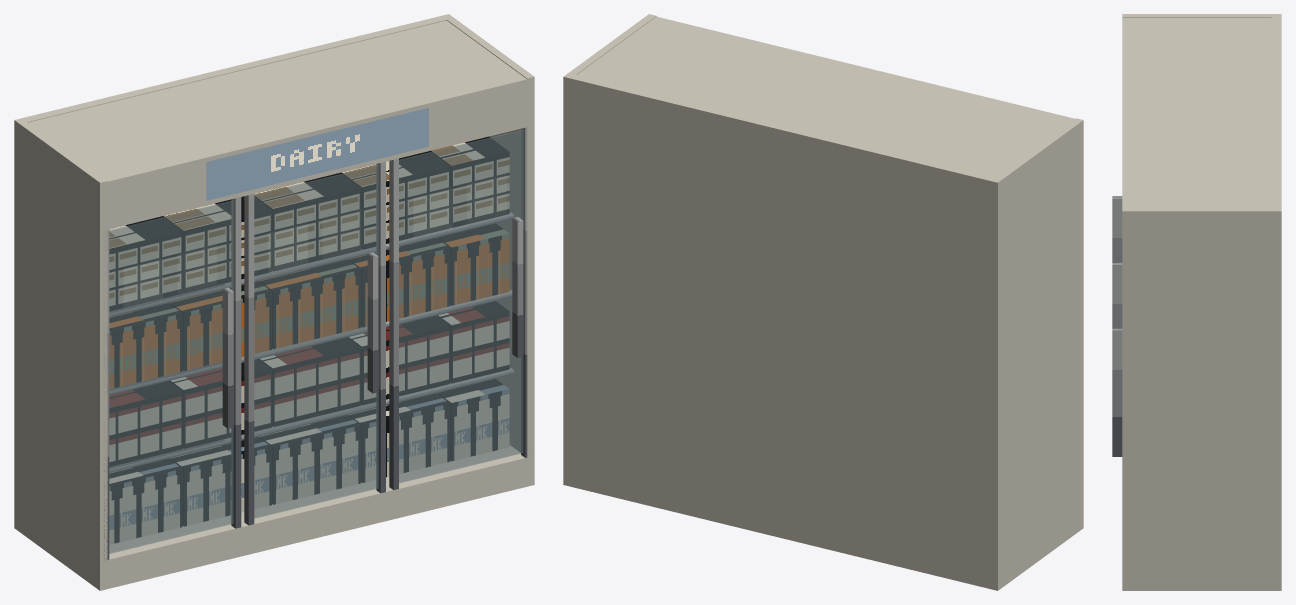
Rendered from COM_Cooler_Dairy.glb.
3 renders of one model, left to right at view 1: azimuth 30°, elevation 25°; view 2: azimuth 150°, elevation 25°; view 3: azimuth 270°, elevation 25°, orthographic. The views are drawn at different scales.
Visible parts, largest first — view 1: COM_Cooler_Dairy_Mesh; view 2: COM_Cooler_Dairy_Mesh; view 3: COM_Cooler_Dairy_Mesh.
Part boxes in pixels (<box>): COM_Cooler_Dairy_Mesh: <box>14,14,534,590</box>; COM_Cooler_Dairy_Mesh: <box>563,14,1083,590</box>; COM_Cooler_Dairy_Mesh: <box>1112,14,1281,590</box>.
Size of what is drawn, in the model's own units: 2.34 by 2.1 by 0.85.
Materials: 3 (3 with a texture image).
